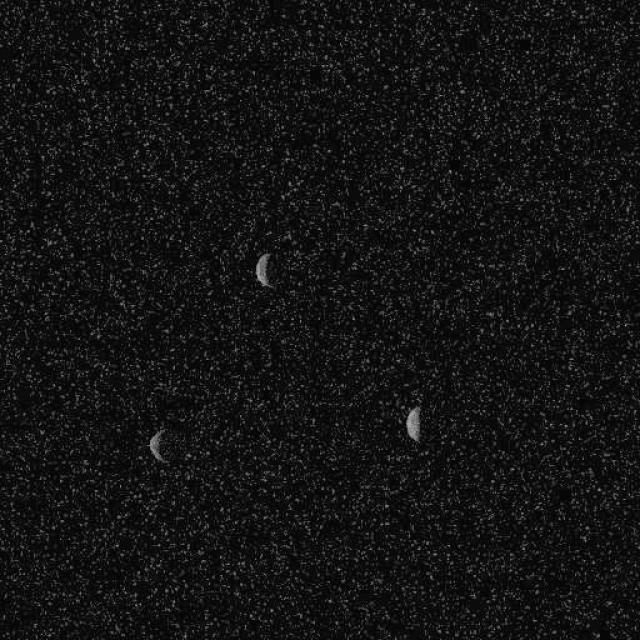D2: (148, 426, 170, 464), (403, 405, 422, 443), (254, 252, 274, 288)
